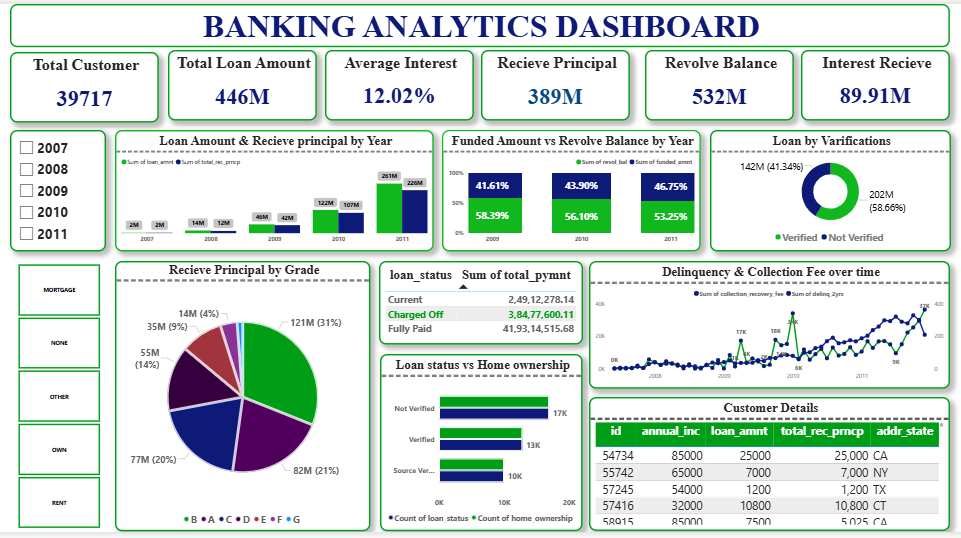

This screenshot's page, from the dashboard's own definition file:
{"tool":"powerbi","page":{"name":"Page 1","canvas":[2200,1100],"ordinal":0},"visuals":[{"type":"clusteredColumnChart","title":"Loan Amount & Recieve  principal by Year","fields":{"Y":["Sum(Finance_1.loan_amnt)","Sum(Sheet1.total_rec_prncp)"],"Category":["Finance_1.issue_d.Variation.Date Hierarchy.Year"]},"box":[275,261.8,664.4,253],"z":0},{"type":"hundredPercentStackedColumnChart","title":"Funded Amount vs Revolve Balance by Year","fields":{"Y":["Sum(Sheet1.revol_bal)","Sum(Finance_1.funded_amnt)"],"Category":["Finance_1.issue_d.Variation.Date Hierarchy.Year"]},"box":[957,261.8,539,253],"z":1000},{"type":"donutChart","title":"Loan by Varifications","fields":{"Category":["Finance_1.verification_status"],"Y":["Sum(Finance_1.loan_amnt)"]},"box":[1513.6,261.8,501.6,253],"z":2000},{"type":"pieChart","title":"Recieve Principal by Grade","fields":{"Category":["Finance_1.grade"],"Y":["Sum(Sheet1.total_rec_prncp)"]},"box":[275,534.6,532.4,563],"z":3000},{"type":"tableEx","fields":{"Values":["Finance_1.loan_status","Sum(Sheet1.total_pymnt)"]},"box":[825,534.6,424.6,173.8],"z":4000},{"type":"clusteredBarChart","title":"Loan status vs Home ownership ","fields":{"Category":["Finance_1.verification_status"],"Y":["CountNonNull(Finance_1.loan_status)","CountNonNull(Finance_1.home_ownership)"]},"box":[827.2,728.2,422.4,369],"z":5000},{"type":"lineChart","title":"Delinquency & Collection Fee over time","fields":{"Y":["Sum(Sheet1.collection_recovery_fee)"],"Category":["Finance_1.issue_d.Variation.Date Hierarchy.Year","Finance_1.issue_d.Variation.Date Hierarchy.Quarter","Finance_1.issue_d.Variation.Date Hierarchy.Month","Finance_1.issue_d.Variation.Date Hierarchy.Day"],"Y2":["Sum(Sheet1.delinq_2yrs)"]},"box":[1262.8,534.6,752.4,266.2],"z":6000},{"type":"tableEx","title":"Customer Details","fields":{"Values":["Finance_1.id","Finance_1.annual_inc","Finance_1.loan_amnt","Sheet1.total_rec_prncp","Finance_1.addr_state"]},"box":[1262.8,818.4,752,279],"z":7000},{"type":"card","title":"Total Customer","fields":{"Values":["CountNonNull(Finance_1.id)"]},"box":[57.2,99,310.2,147.4],"z":8000},{"type":"card","title":"Total Loan Amount","fields":{"Values":["Sum(Finance_1.loan_amnt)"]},"box":[385,96.8,310.2,147.4],"z":9000},{"type":"card","title":"Revolve Balance","fields":{"Values":["Sum(Sheet1.revol_bal)"]},"box":[1379.4,96.8,310.2,147.4],"z":10000},{"type":"card","title":"Recieve Principal","fields":{"Values":["Sum(Sheet1.total_rec_prncp)"]},"box":[1038.4,96.8,310.2,147.4],"z":11000},{"type":"card","title":"Average Interest ","fields":{"Values":["Finance_1.AVG int"]},"box":[712.8,96.8,310,147],"z":12000},{"type":"slicer","fields":{"Values":["Finance_1.issue_d.Variation.Date Hierarchy.Year"]},"box":[57.2,261.8,200.2,253],"z":13000},{"type":"card","title":"Interest Recieve","fields":{"Values":["Sum(Sheet1.total_rec_int)"]},"box":[1705,96.8,310.2,147],"z":14000},{"type":"slicer","fields":{"Values":["Finance_1.home_ownership"]},"box":[48.4,534.6,220,563.2],"z":15000},{"type":"card","title":"BANKING ANALYTICS DASHBOARD","fields":{"Values":["CountNonNull(Finance_1.id)"]},"box":[57.2,0,1958,90],"z":16000}]}

Visuals, with their boxes on the page's 2200x1100 design canvas (x1, y1, x2, y2). These are canvas units, not pixel positions in the 961x538 screenshot, which may show the page scaled, cropped or inside an application window:
"Loan Amount & Recieve  principal by Year" clusteredColumnChart: pyautogui.locateOnScreen(275, 262, 939, 515)
"Funded Amount vs Revolve Balance by Year" hundredPercentStackedColumnChart: pyautogui.locateOnScreen(957, 262, 1496, 515)
"Loan by Varifications" donutChart: pyautogui.locateOnScreen(1514, 262, 2015, 515)
"Recieve Principal by Grade" pieChart: pyautogui.locateOnScreen(275, 535, 807, 1098)
tableEx - Finance_1.loan_status x Sum(Sheet1.total_pymnt): pyautogui.locateOnScreen(825, 535, 1250, 708)
"Loan status vs Home ownership " clusteredBarChart: pyautogui.locateOnScreen(827, 728, 1250, 1097)
"Delinquency & Collection Fee over time" lineChart: pyautogui.locateOnScreen(1263, 535, 2015, 801)
"Customer Details" tableEx: pyautogui.locateOnScreen(1263, 818, 2015, 1097)
"Total Customer" card: pyautogui.locateOnScreen(57, 99, 367, 246)
"Total Loan Amount" card: pyautogui.locateOnScreen(385, 97, 695, 244)
"Revolve Balance" card: pyautogui.locateOnScreen(1379, 97, 1690, 244)
"Recieve Principal" card: pyautogui.locateOnScreen(1038, 97, 1349, 244)
"Average Interest " card: pyautogui.locateOnScreen(713, 97, 1023, 244)
slicer - Finance_1.issue_d.Variation.Date Hierarchy.Year: pyautogui.locateOnScreen(57, 262, 257, 515)
"Interest Recieve" card: pyautogui.locateOnScreen(1705, 97, 2015, 244)
slicer - Finance_1.home_ownership: pyautogui.locateOnScreen(48, 535, 268, 1098)
"BANKING ANALYTICS DASHBOARD" card: pyautogui.locateOnScreen(57, 0, 2015, 90)
